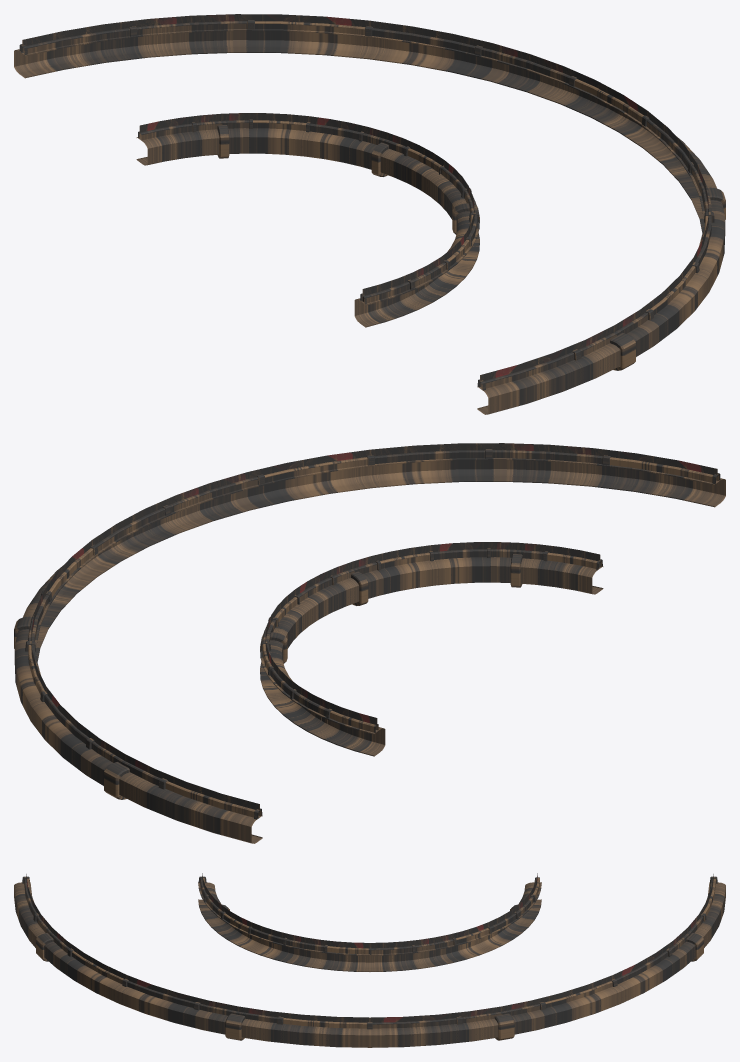
The model's file is Mur_V_180.fbx.
3 renders of one model, top to bottom at view 1: azimuth 30°, elevation 25°; view 2: azimuth 150°, elevation 25°; view 3: azimuth 270°, elevation 25°, orthographic. The views are drawn at different scales.
Parts seen in each view (by area): view 1: polySurface146; view 2: polySurface146; view 3: polySurface146.
Part boxes in pixels (x1,y1,x2,y2): polySurface146: (14,14,725,414); polySurface146: (14,443,725,843); polySurface146: (14,873,725,1047).
Size of the model in its own units: 26.6 by 2.5 by 53.2.
